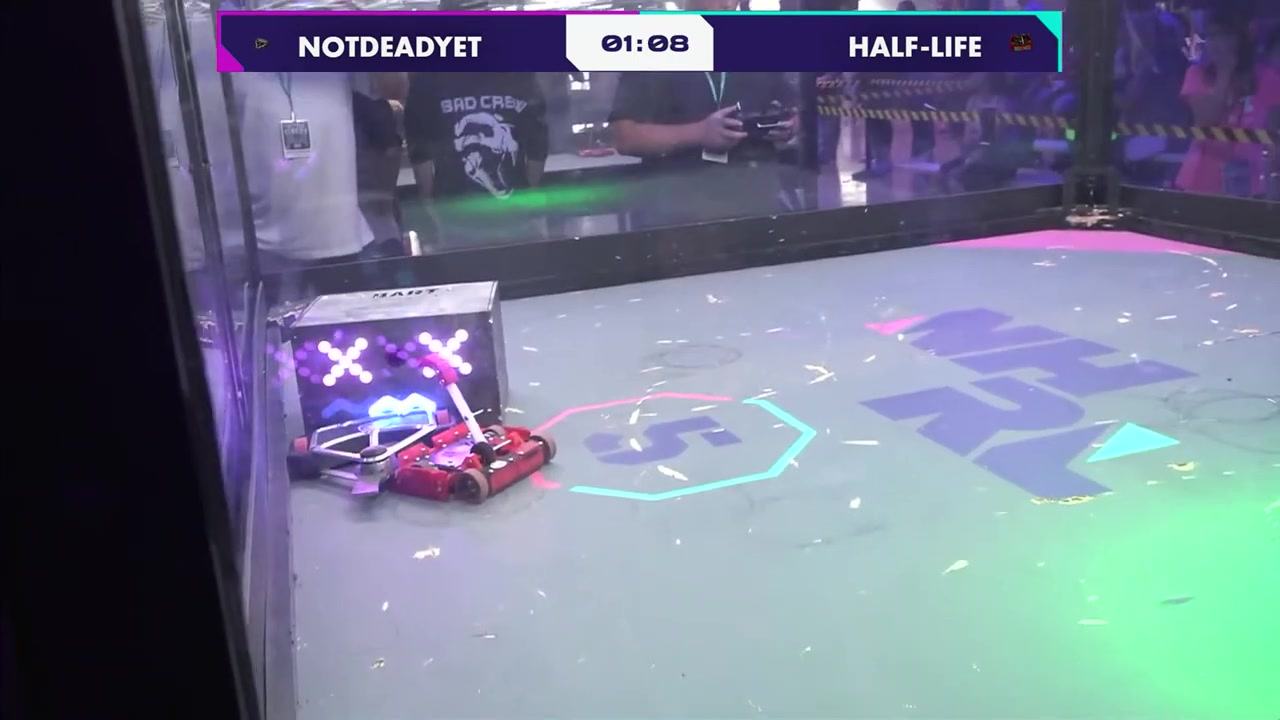combatbot: (389, 418, 558, 507), (287, 412, 457, 496)
housebot: (288, 279, 513, 443)
